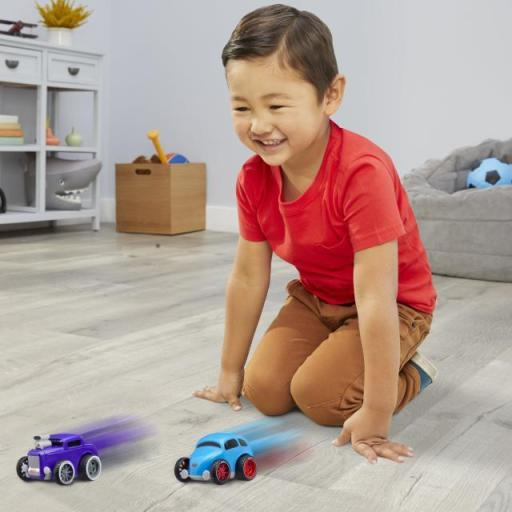baby: (194, 4, 436, 462)
